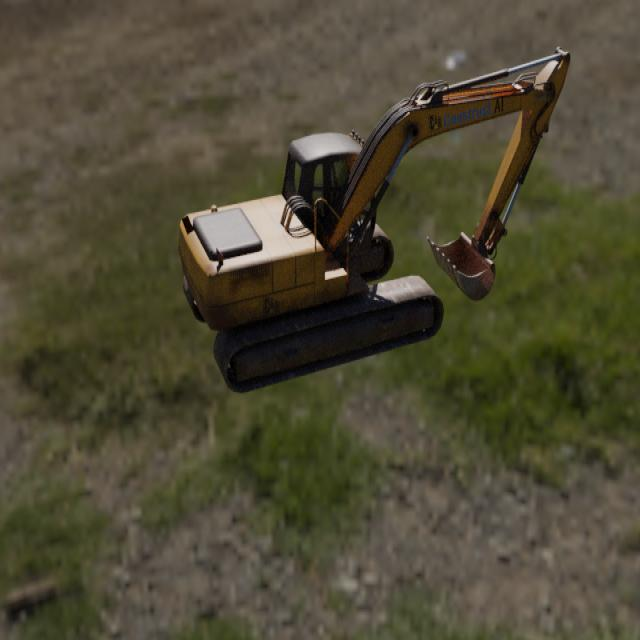excavator: (178, 46, 571, 393)
